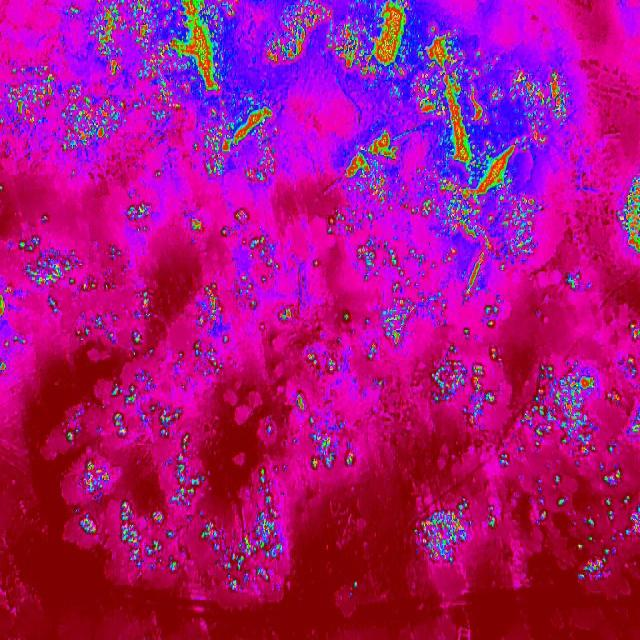fire: (327, 1, 582, 296), (0, 203, 298, 387), (65, 384, 290, 596), (73, 1, 277, 184), (504, 317, 640, 584), (294, 290, 444, 492), (0, 64, 126, 164), (430, 303, 506, 436), (402, 496, 504, 575), (266, 0, 330, 71), (618, 166, 640, 256)
